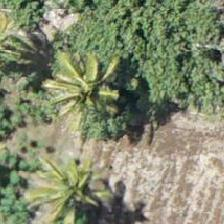coconut_tree: (48, 37, 138, 127), (41, 153, 131, 223)
